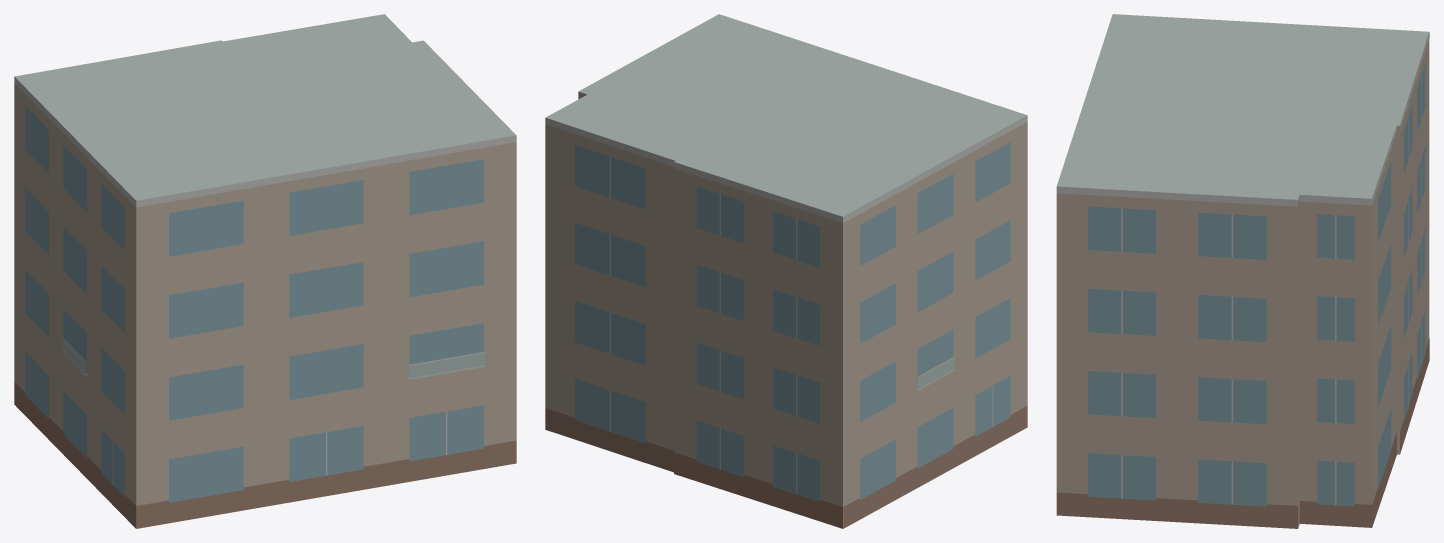
Rendered from survey-upis-32894635.glb.
3 views of the same model, side by side, from view 1: azimuth 30°, elevation 25°; view 2: azimuth 150°, elevation 25°; view 3: azimuth 270°, elevation 25° (orthographic). The views are drawn at different scales.
Visible parts, largest first — view 1: survey-upis-32894635.tmp; view 2: survey-upis-32894635.tmp; view 3: survey-upis-32894635.tmp.
Boxes of the visible parts, x1,y1,x2,y2 form: survey-upis-32894635.tmp: (14,14,516,528); survey-upis-32894635.tmp: (545,14,1027,528); survey-upis-32894635.tmp: (1056,14,1429,528).
Size of the model in its own units: 14.43 by 11.9 by 12.23.
